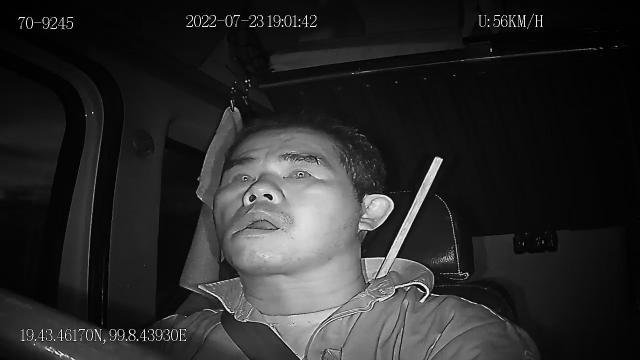SafeDriving: (278, 158, 324, 184), (224, 162, 259, 190)
Seatbelt: (220, 306, 304, 360)
